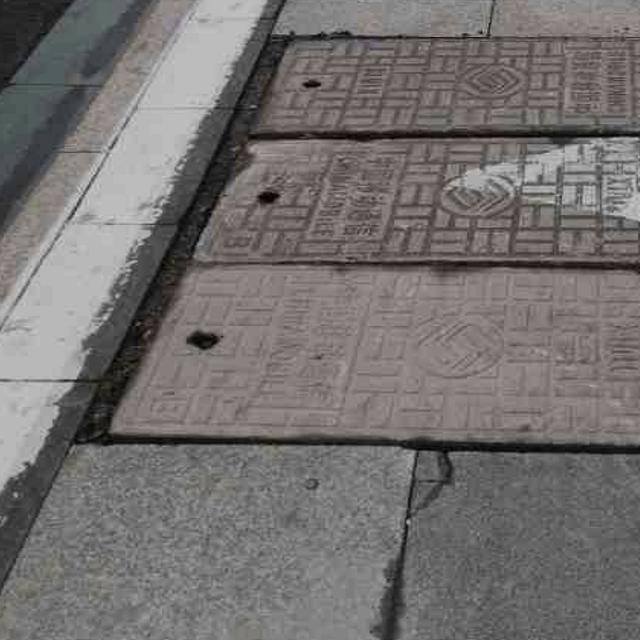good: (85, 21, 640, 462)
